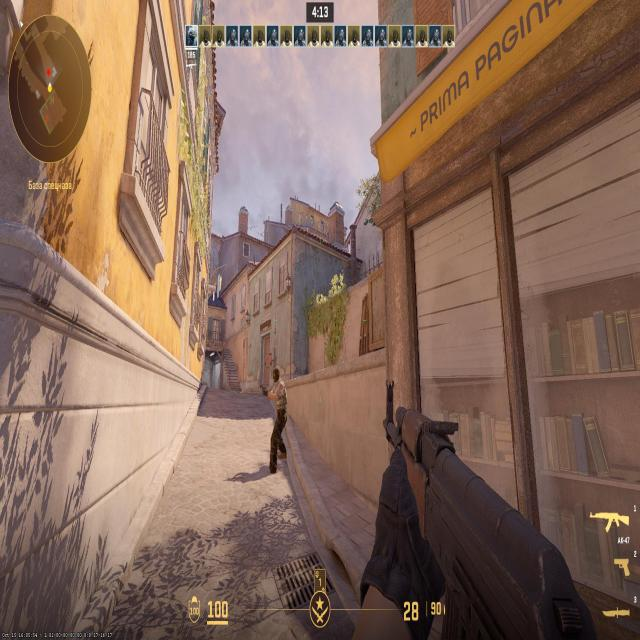T: (274, 371, 286, 438)
T_heat: (275, 374, 280, 395)
